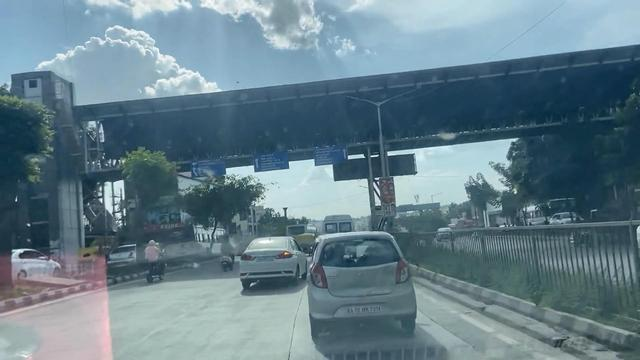LMV: (311, 241, 411, 330), (245, 250, 294, 286), (146, 238, 170, 285), (218, 234, 235, 272)
